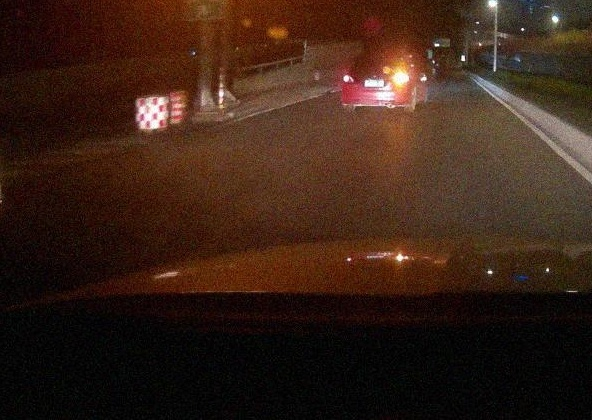L_light: (343, 73, 354, 83)
R_light: (394, 75, 408, 83)
T_light: (381, 56, 389, 58)
night-right: (341, 50, 411, 113)
